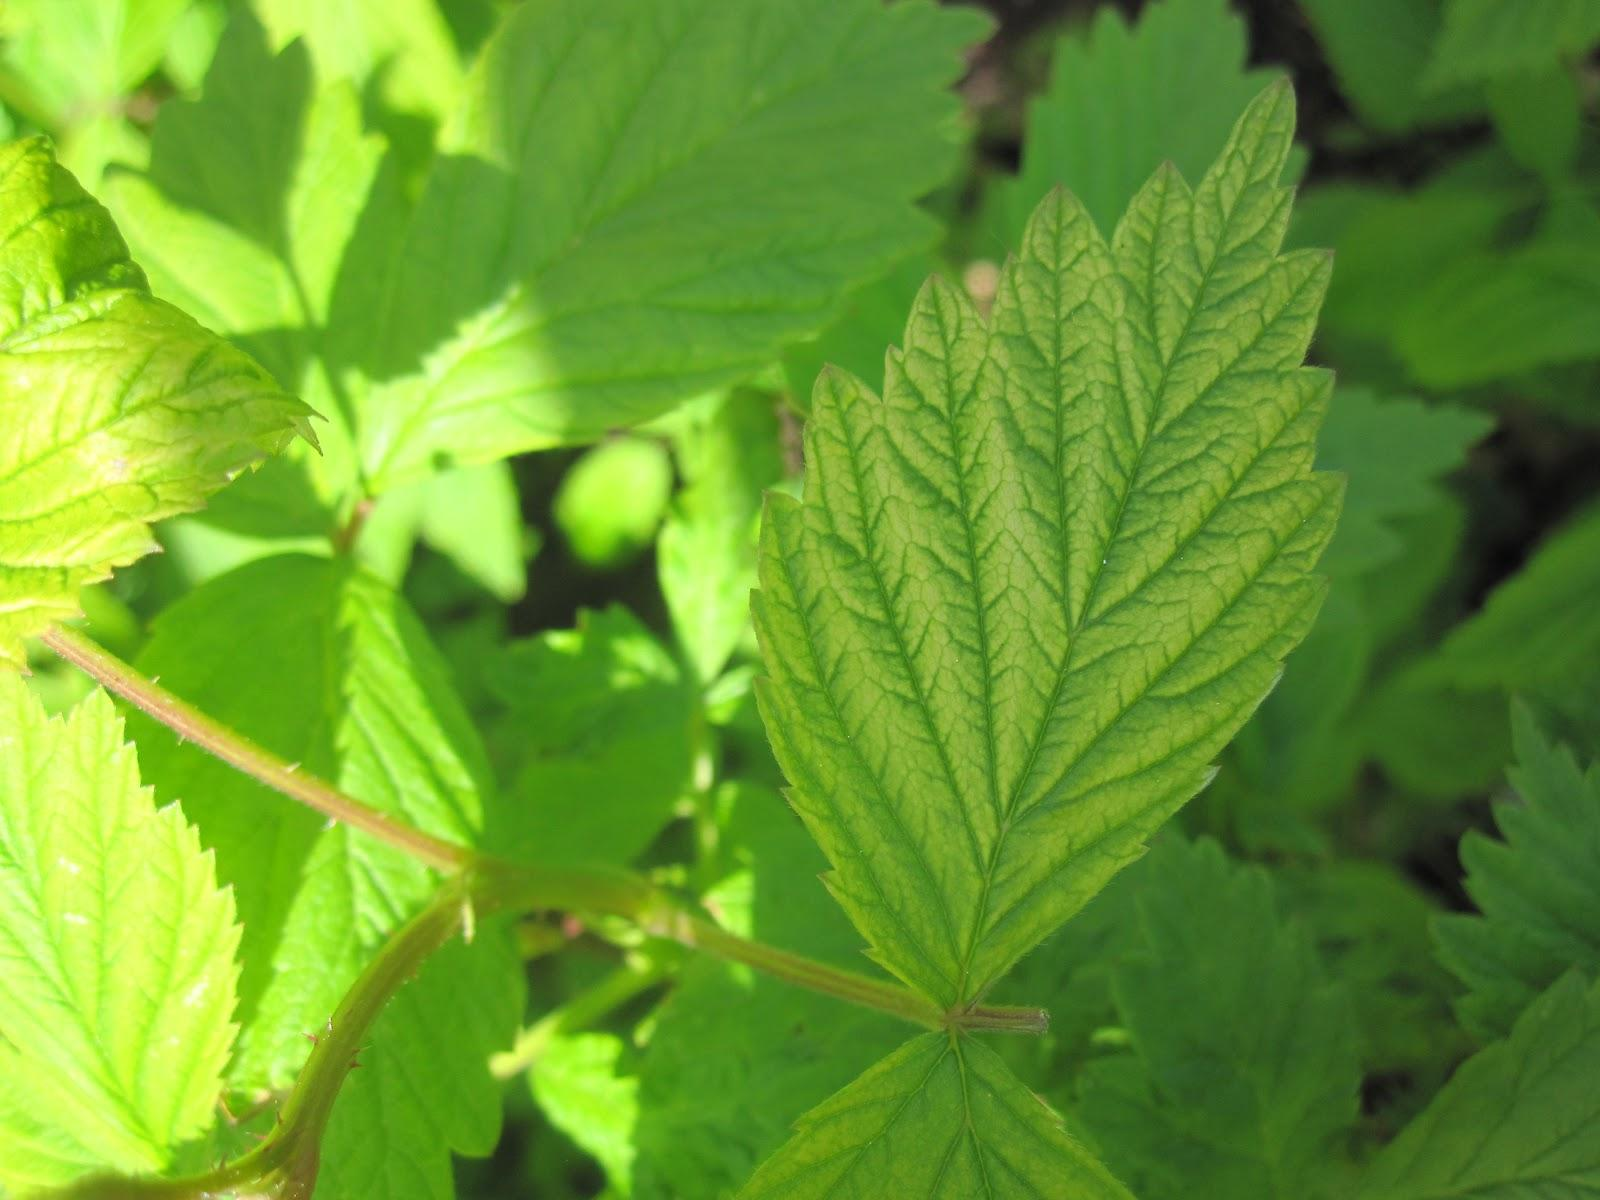Raspberry leaf: (738, 74, 1352, 1013)
